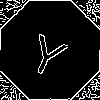Y: (25, 25, 73, 80)
